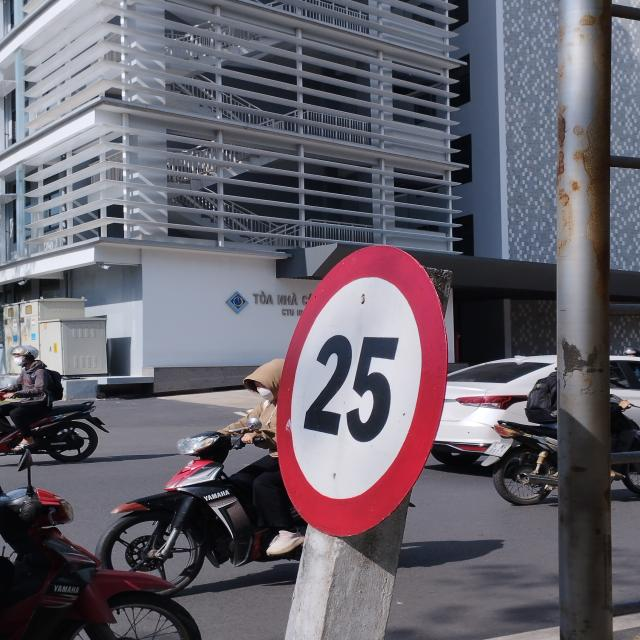Tre_Em: (275, 244, 448, 540)
